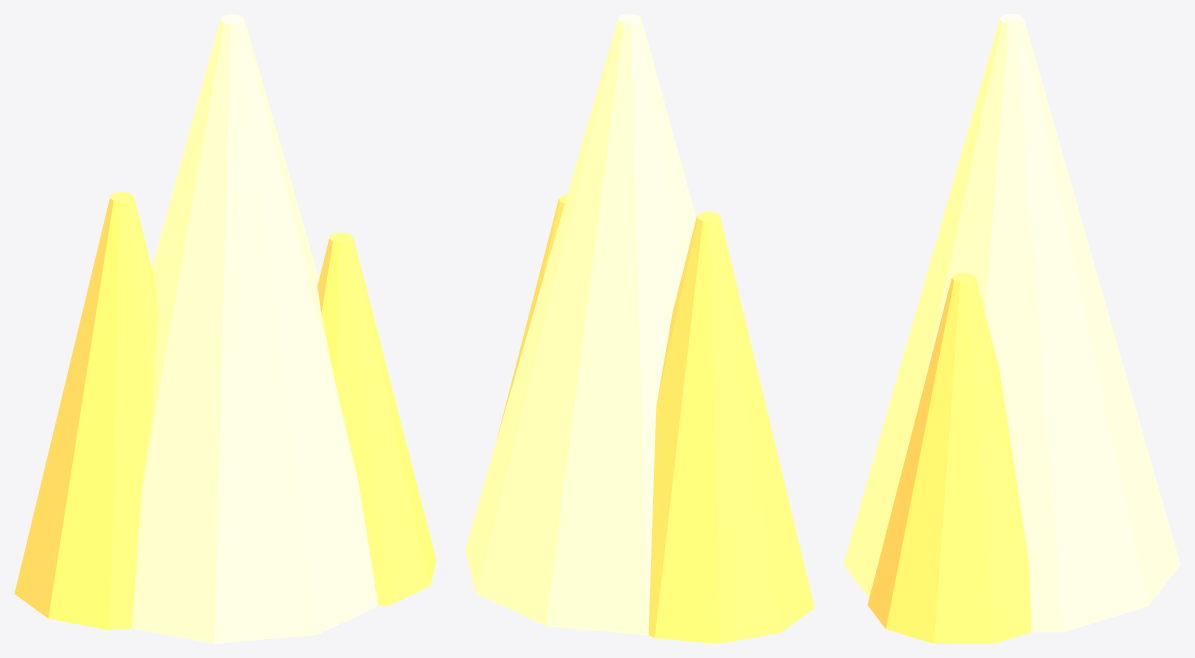
File: fire_flame.glb
3 views of the same model, side by side, from view 1: azimuth 30°, elevation 25°; view 2: azimuth 150°, elevation 25°; view 3: azimuth 270°, elevation 25° (orthographic).
Parts seen in each view (by area): view 1: FireFlame; view 2: FireFlame; view 3: FireFlame.
Boxes of the visible parts, bbox=[...] form: FireFlame: bbox=[14, 14, 436, 643]; FireFlame: bbox=[465, 14, 814, 643]; FireFlame: bbox=[843, 14, 1180, 643].
Bounding box in the file's own units: 0.6634 × 1 × 0.56.
